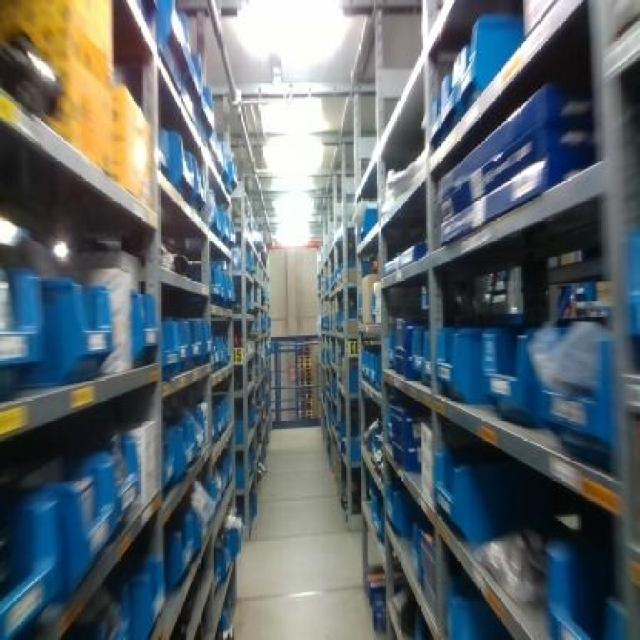pallets: (317, 0, 637, 637)
